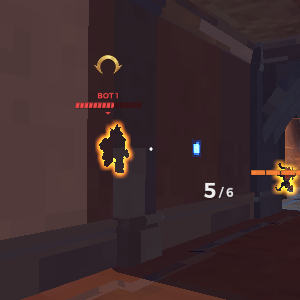model: (97, 118, 132, 171)
